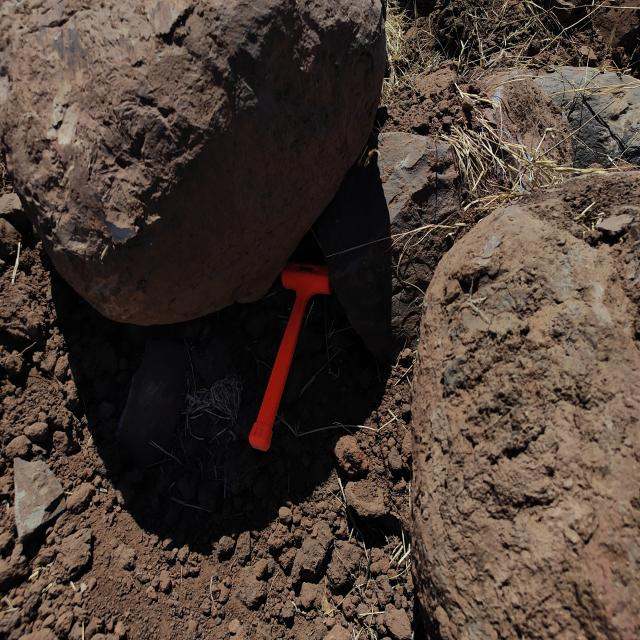Orange_hammer: (247, 260, 332, 452)
